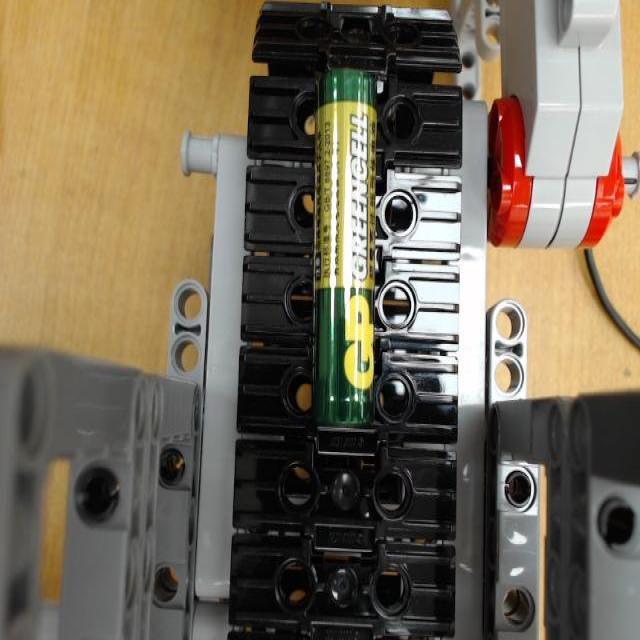AAA: (312, 68, 376, 427)
